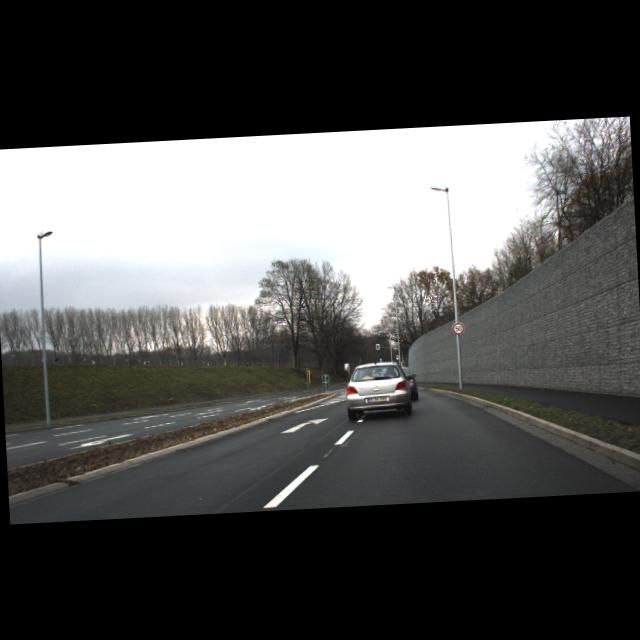prohibitory: (452, 321, 466, 335)
